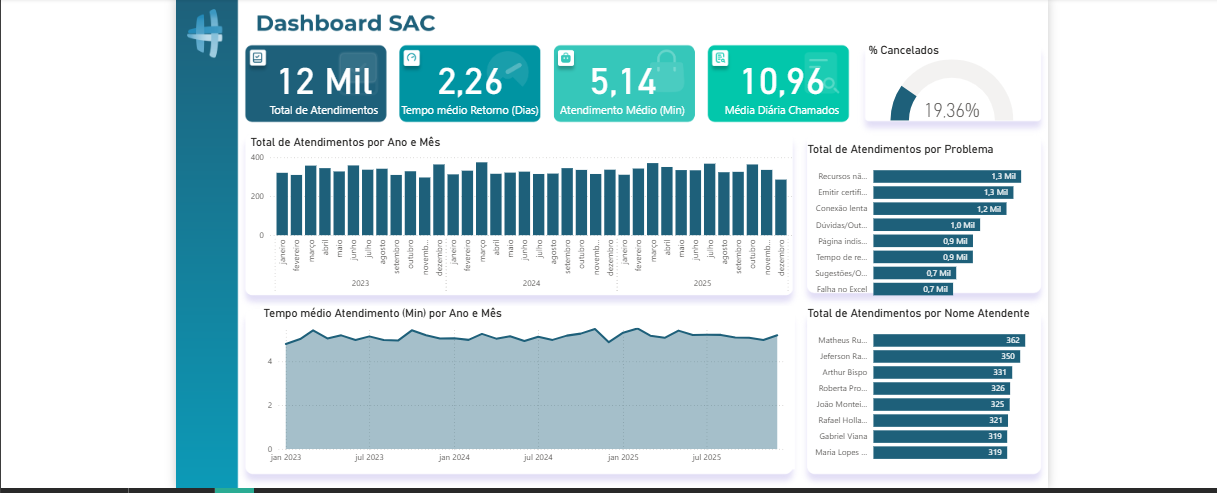

The dashboard page shown, as its layout file describes it:
{"tool":"powerbi","page":{"name":"Página 1","canvas":[1280,720],"ordinal":0},"visuals":[{"type":"card","fields":{"Values":["fOcorrencias.Total de Atendimentos"]},"box":[124.3,50.4,184.8,151.2],"z":0},{"type":"card","fields":{"Values":["fOcorrencias.Tempo médio Retorno (Dias)"]},"box":[309.1,50.4,246.9,151.2],"z":1000},{"type":"card","fields":{"Values":["fOcorrencias.Tempo médio Atendimento (Min)"]},"box":[527.5,50.4,257,151.2],"z":2000},{"type":"card","fields":{"Values":["fOcorrencias.Média Diária Chamados"]},"box":[797.9,50.4,184.8,151.2],"z":3000},{"type":"gauge","fields":{"Y":["fOcorrencias.% Cancelados"]},"box":[1012.9,65.5,255.3,119.3],"z":4000},{"type":"clusteredColumnChart","fields":{"Y":["fOcorrencias.Total de Atendimentos"],"Category":["fOcorrencias.Data Chamado.Variation.Hierarquia de datas.Ano","fOcorrencias.Data Chamado.Variation.Hierarquia de datas.Mês"]},"box":[104.1,201.6,806.3,240.2],"z":5000},{"type":"areaChart","fields":{"Y":["fOcorrencias.Tempo médio Atendimento (Min)"],"Category":["fOcorrencias.Data Chamado.Variation.Hierarquia de datas.Ano","fOcorrencias.Data Chamado.Variation.Hierarquia de datas.Mês"]},"box":[124,452,786,240],"z":6000},{"type":"barChart","fields":{"Y":["fOcorrencias.Total de Atendimentos"],"Category":["dProblema.Problema"]},"box":[922.2,211.7,357.8,240.2],"z":7000},{"type":"barChart","fields":{"Y":["fOcorrencias.Total de Atendimentos"],"Category":["dSuporte.Nome Atendente"]},"box":[922.8,452.6,357.1,239.5],"z":8000}]}

Visuals, with their boxes on the page's 1280x720 design canvas (x1, y1, x2, y2). These are canvas units, not pixel positions in the 1217x493 screenshot, which may show the page scaled, cropped or inside an application window:
card - fOcorrencias.Total de Atendimentos: (124, 50, 309, 202)
card - fOcorrencias.Tempo médio Retorno (Dias): (309, 50, 556, 202)
card - fOcorrencias.Tempo médio Atendimento (Min): (528, 50, 784, 202)
card - fOcorrencias.Média Diária Chamados: (798, 50, 983, 202)
gauge - fOcorrencias.% Cancelados: (1013, 66, 1268, 185)
clusteredColumnChart - fOcorrencias.Total de Atendimentos x fOcorrencias.Data Chamado.Variation.Hierarquia de datas.Ano: (104, 202, 910, 442)
areaChart - fOcorrencias.Tempo médio Atendimento (Min) x fOcorrencias.Data Chamado.Variation.Hierarquia de datas.Ano: (124, 452, 910, 692)
barChart - fOcorrencias.Total de Atendimentos x dProblema.Problema: (922, 212, 1280, 452)
barChart - fOcorrencias.Total de Atendimentos x dSuporte.Nome Atendente: (923, 453, 1280, 692)
